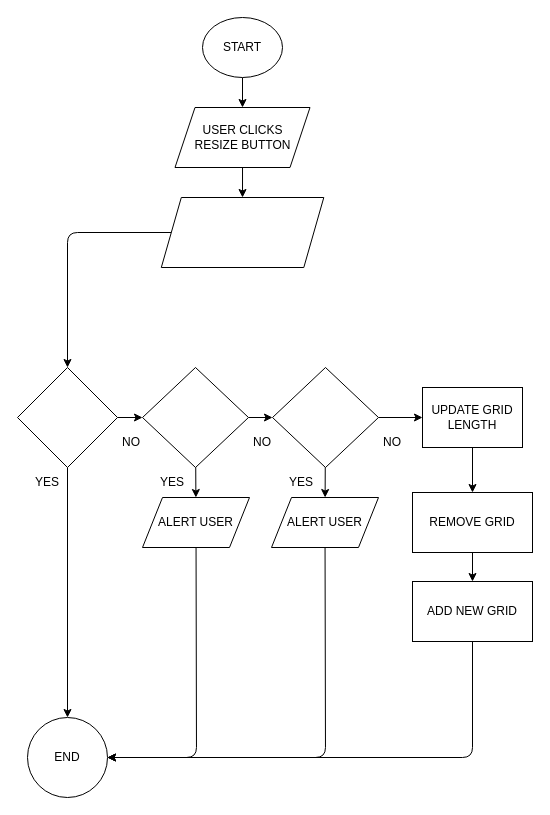
This 550x815 diagram has some shape labels left out. The shapes that lost their labels are listed below. From the top down, each one's box as (x1, y1, x2, y2) in pixels, then its label:
(160, 196, 324, 268): PROMPT USER FOR NEW GRID LENGTH
(16, 366, 118, 468): IS INPUT null OR ""
(142, 366, 248, 468): IS INPUT A POSITIVE INT
(272, 366, 378, 468): IS INPUT > 100
